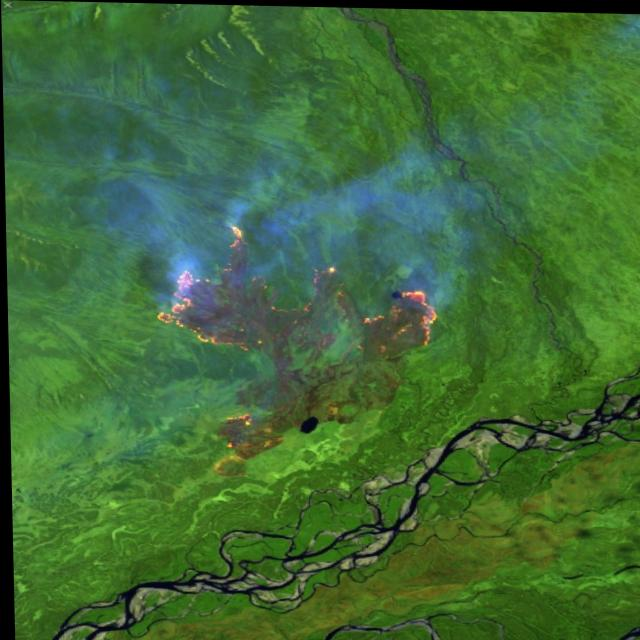fire: (146, 220, 258, 354), (356, 281, 452, 350), (210, 409, 257, 453), (300, 259, 347, 288)
